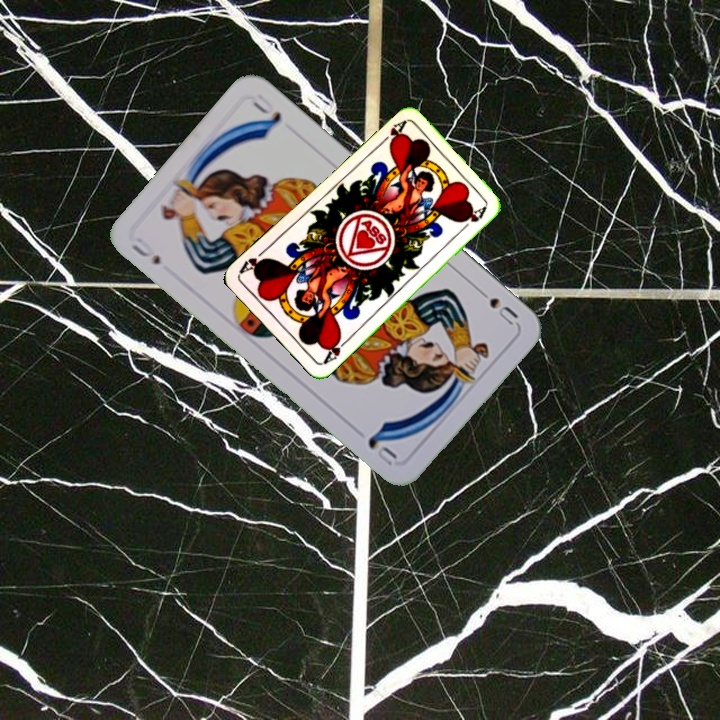HA: (319, 331, 352, 367), (375, 117, 408, 149)
SU: (471, 283, 521, 328), (127, 233, 164, 268)
